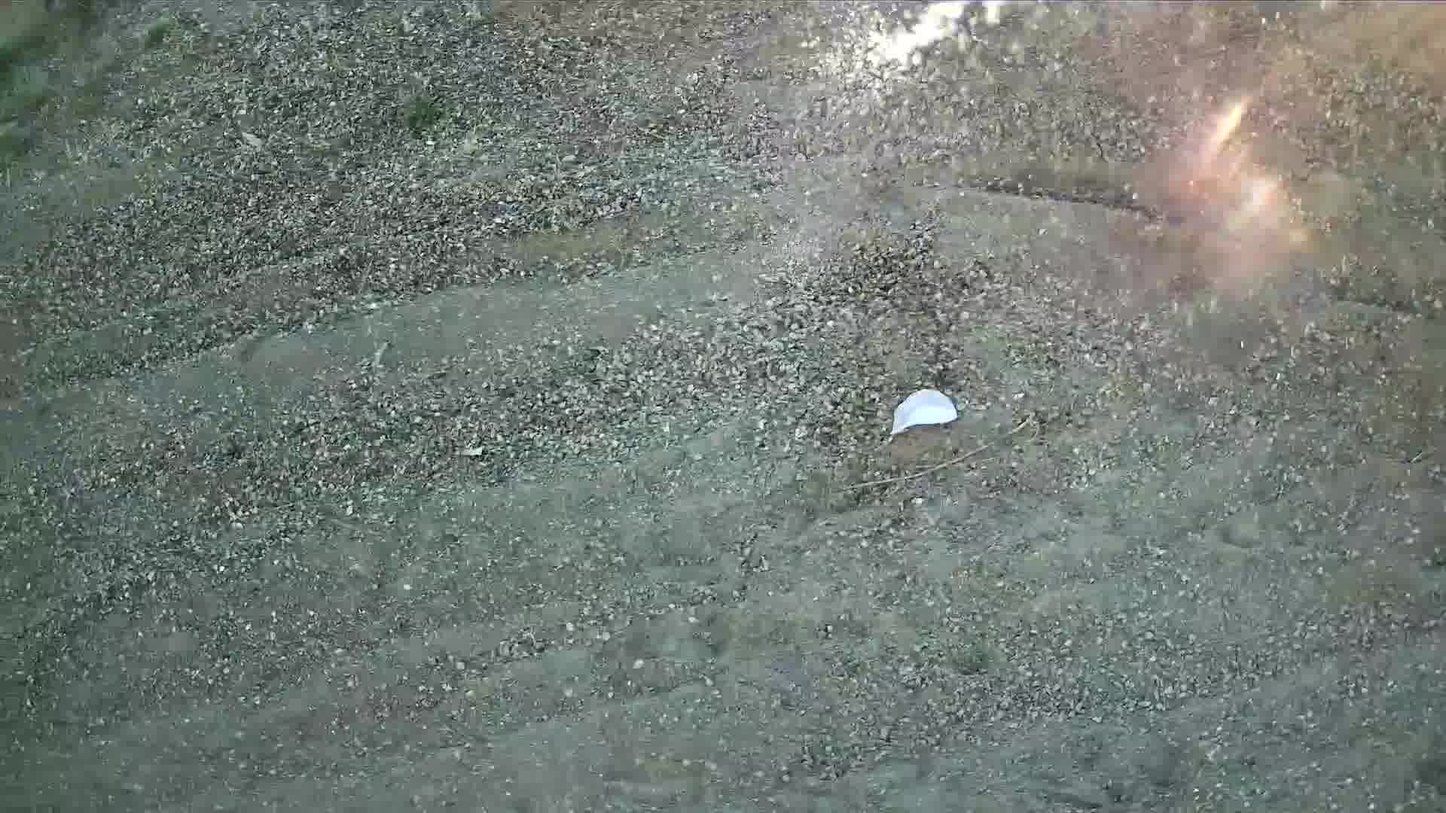Target: (888, 385, 954, 431)
